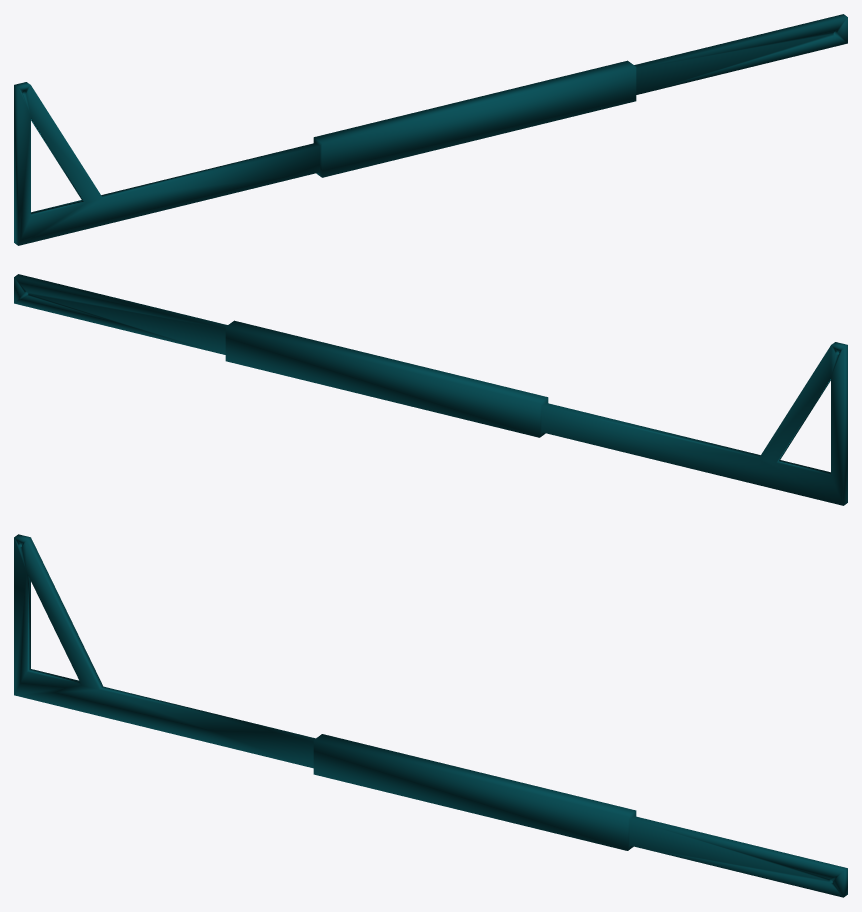
The model's file is arm_2.dae.
3 renders of one model, top to bottom at view 1: azimuth 30°, elevation 25°; view 2: azimuth 150°, elevation 25°; view 3: azimuth 330°, elevation 25°, orthographic.
Visible parts, largest first — view 1: arm_1; view 2: arm_1; view 3: arm_1.
Part boxes in pixels (x1,y1,x2,y2): arm_1: (14, 14, 847, 245); arm_1: (14, 274, 847, 505); arm_1: (14, 534, 847, 897).
Size of the model in its own units: 0.66 by 0.012 by 0.123.
